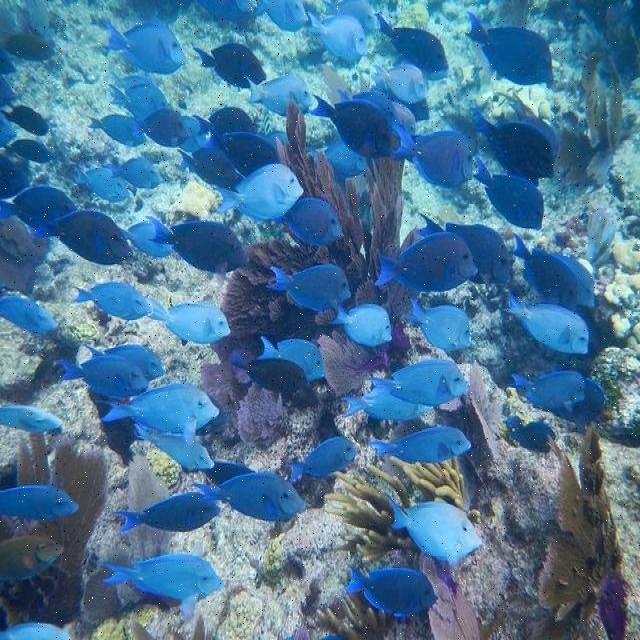fish: (0, 294, 150, 399), (102, 552, 225, 624), (94, 382, 220, 449), (413, 212, 514, 293), (144, 214, 250, 291), (384, 492, 483, 571), (462, 10, 553, 90), (375, 232, 479, 297), (512, 369, 609, 435), (469, 103, 554, 178), (189, 471, 306, 523), (391, 117, 473, 191), (25, 211, 134, 266), (345, 563, 440, 623), (500, 290, 589, 354), (208, 163, 305, 221), (309, 92, 391, 159), (474, 157, 544, 230), (510, 234, 577, 310), (97, 19, 186, 74), (110, 492, 222, 534), (375, 13, 449, 74), (341, 376, 434, 421), (265, 264, 351, 312), (146, 297, 231, 343), (368, 425, 470, 463), (389, 357, 467, 406), (132, 423, 214, 469), (198, 130, 281, 175), (402, 298, 470, 352), (230, 346, 308, 393), (275, 196, 343, 247), (192, 43, 267, 88), (68, 280, 152, 320), (256, 336, 326, 383), (0, 184, 78, 226), (508, 102, 560, 165), (287, 436, 357, 482), (303, 11, 368, 60), (325, 300, 392, 347), (81, 343, 166, 380), (0, 485, 80, 522), (0, 534, 64, 580), (174, 147, 242, 190), (248, 74, 313, 115), (335, 88, 401, 125), (132, 107, 193, 146), (551, 253, 595, 307), (107, 82, 171, 118), (181, 458, 257, 488), (116, 220, 174, 258), (371, 63, 427, 102), (86, 114, 149, 148), (501, 415, 557, 453), (101, 156, 165, 189), (73, 167, 129, 203), (376, 83, 430, 120), (191, 106, 258, 135), (0, 405, 64, 433), (324, 0, 378, 33), (198, 1, 253, 32), (253, 1, 308, 31), (325, 142, 369, 178), (3, 32, 57, 61), (0, 105, 50, 136), (0, 150, 31, 198), (5, 139, 56, 162), (0, 623, 72, 639), (110, 68, 156, 88), (394, 101, 417, 137)
